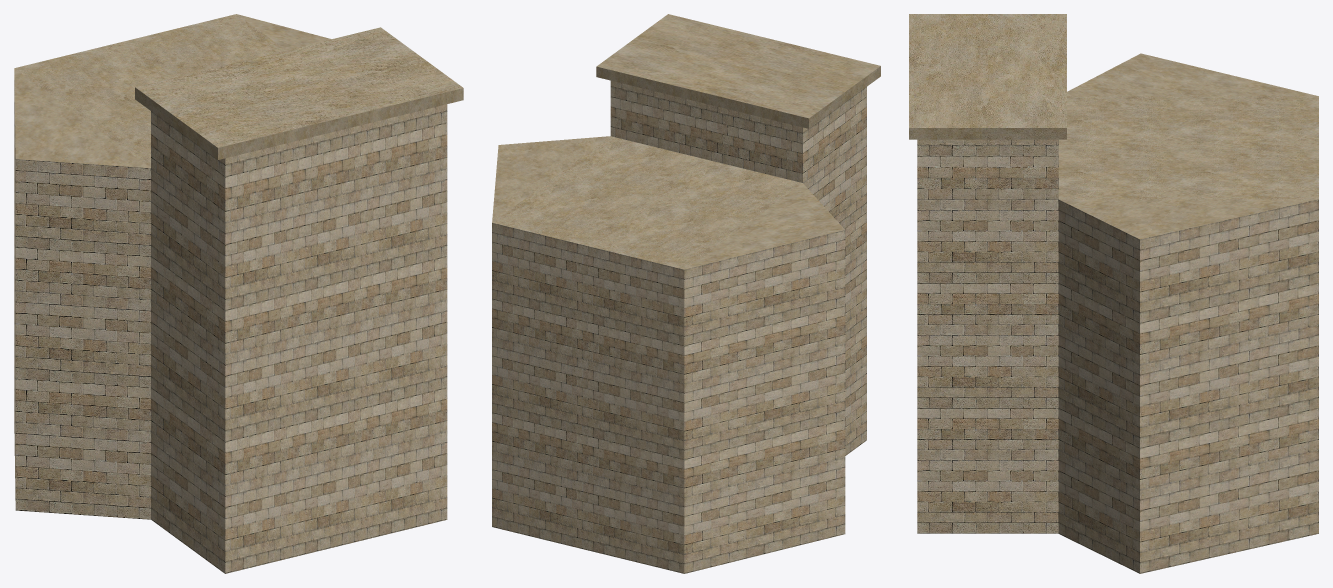
Rendered from thm_nboo_thed_imprv_seawall_intersection_s02_l0.fbx.
3 renders of one model, left to right at view 1: azimuth 30°, elevation 25°; view 2: azimuth 150°, elevation 25°; view 3: azimuth 270°, elevation 25°, orthographic. The views are drawn at different scales.
Parts seen in each view (by area): view 1: mesh_node; view 2: mesh_node; view 3: mesh_node.
Part boxes in pixels (bbox=[...]): mesh_node: bbox=[14, 14, 463, 573]; mesh_node: bbox=[492, 14, 880, 573]; mesh_node: bbox=[909, 14, 1318, 573].
Bounding box in the file's own units: 7.33 × 7.55 × 6.82.
